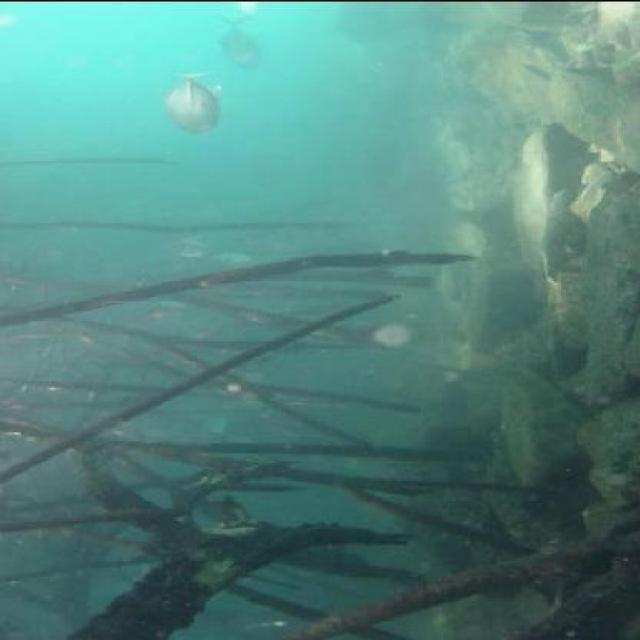Caranx_sexfasciatus_juvenile: (152, 71, 228, 137), (208, 15, 270, 70), (157, 232, 211, 258), (200, 248, 265, 269)
